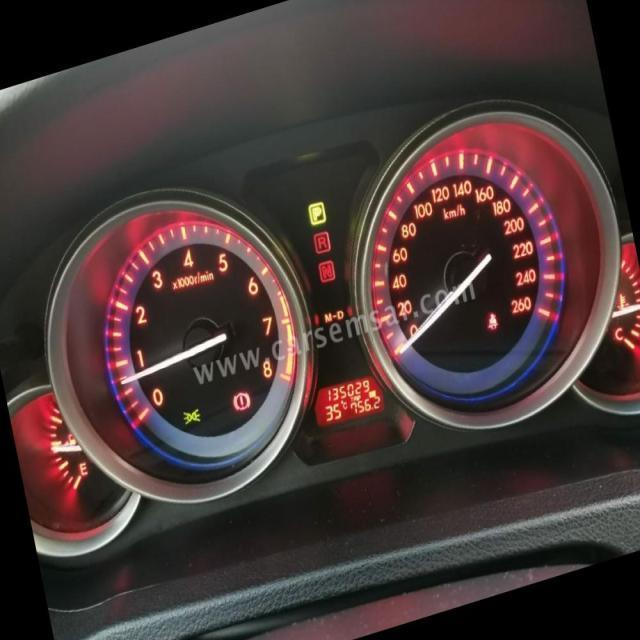High Engine Coolant Temperature: (617, 292, 629, 310)
Seat Belt: (488, 312, 498, 330)
